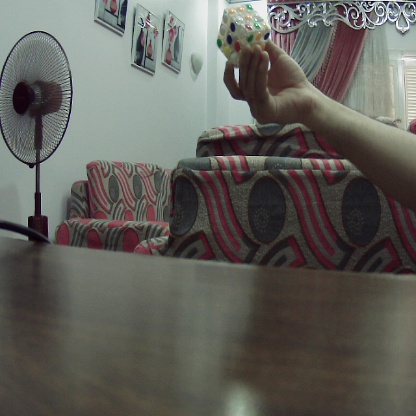Rubix Cube: (217, 4, 267, 63)
